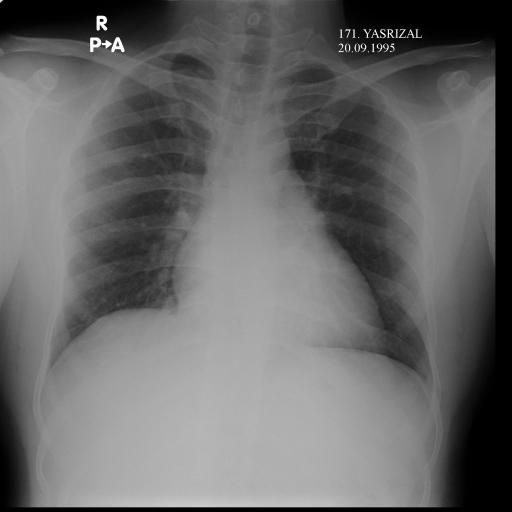kardiomegali: (20, 28, 443, 400)
